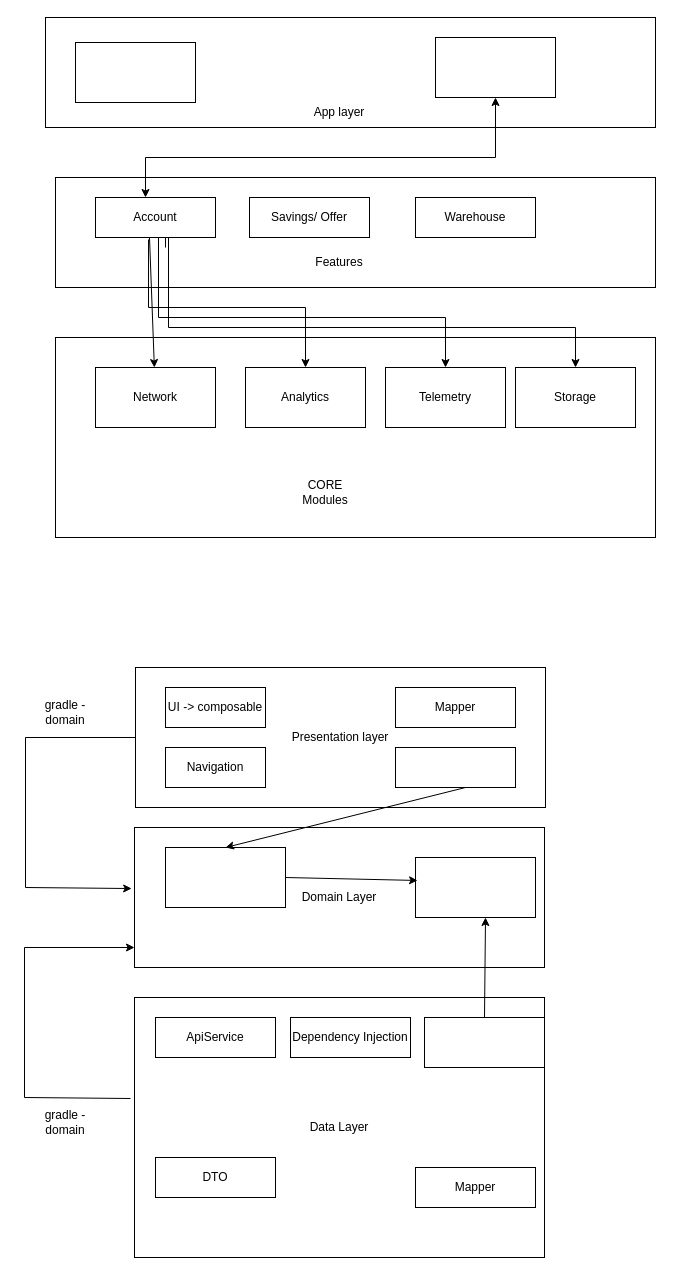
Image size: 673x1275. Some labels were removed from this diagram. The centre of each missing label's shape, as x and y in pixels:
Legacy code: point 135,72
Modernization: point 495,67
Repository Interface: point 475,887
RepositoryImpl: point 484,1042
Usercase: point 225,877
ViewModel: point 455,767
